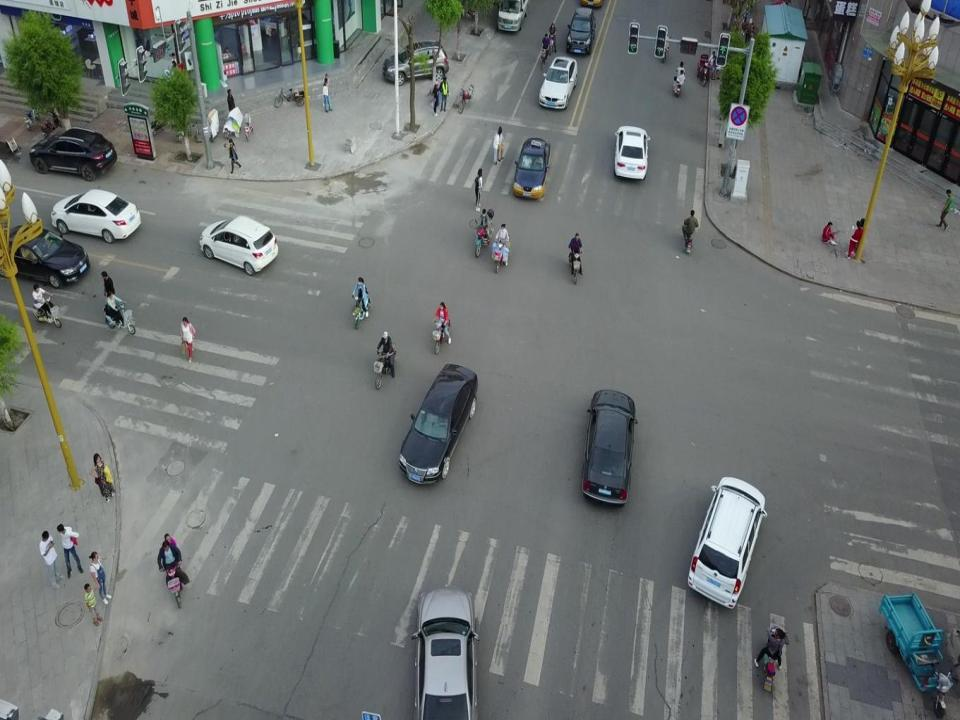car: (688, 477, 767, 608), (399, 362, 478, 487), (414, 586, 479, 720), (580, 391, 637, 510), (0, 225, 93, 291), (47, 189, 142, 245), (199, 214, 279, 278), (28, 129, 115, 182), (382, 38, 450, 86), (513, 138, 551, 204), (539, 56, 578, 112), (613, 126, 651, 183), (564, 8, 595, 56)
truck: (498, 0, 528, 32)
